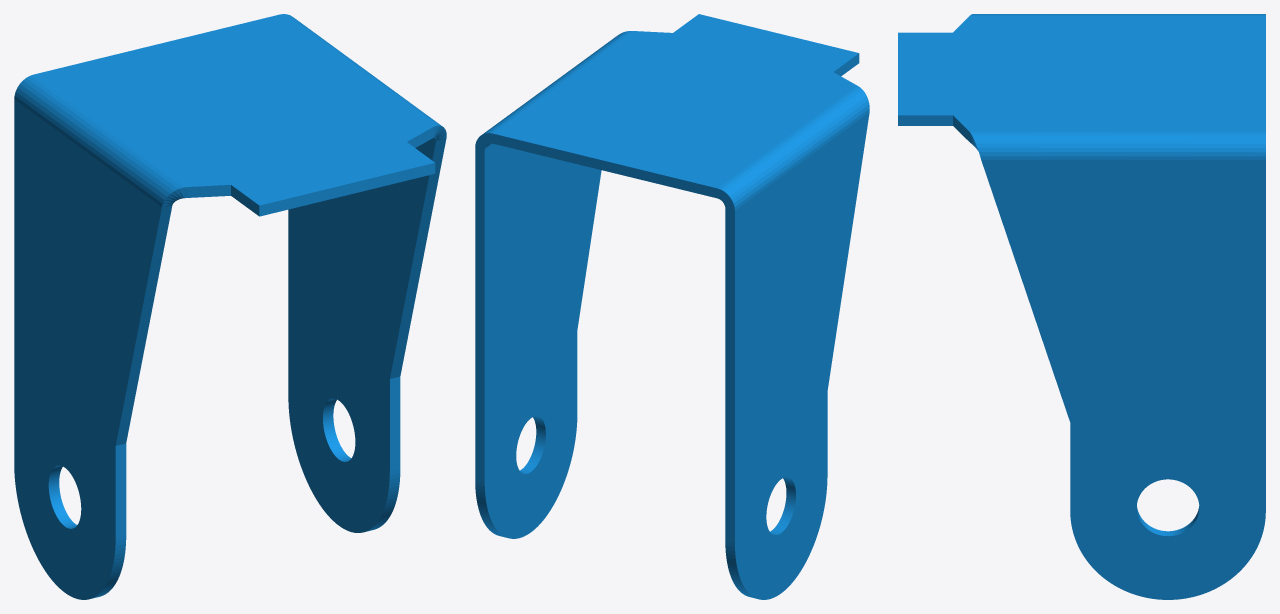
Rendered from wrist_link.dae.
3 views of the same model, side by side, from view 1: azimuth 30°, elevation 25°; view 2: azimuth 150°, elevation 25°; view 3: azimuth 270°, elevation 25° (orthographic). The views are drawn at different scales.
Visible parts, largest first — view 1: wrist-metal; view 2: wrist-metal; view 3: wrist-metal.
Part boxes in pixels (<box>): wrist-metal: <box>14,14,446,599</box>; wrist-metal: <box>475,14,869,599</box>; wrist-metal: <box>898,14,1265,599</box>.
Size of the model in its own units: 40.5 by 47 by 64.75.
